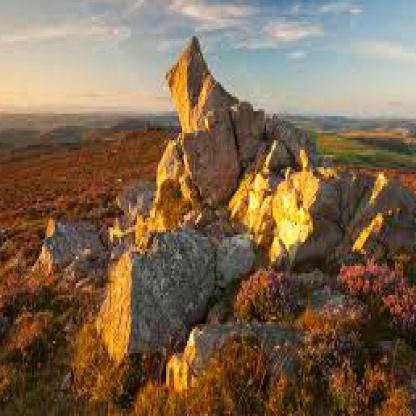Metamorphic_Quartize: (100, 210, 211, 366), (245, 155, 342, 288), (39, 203, 102, 283)
